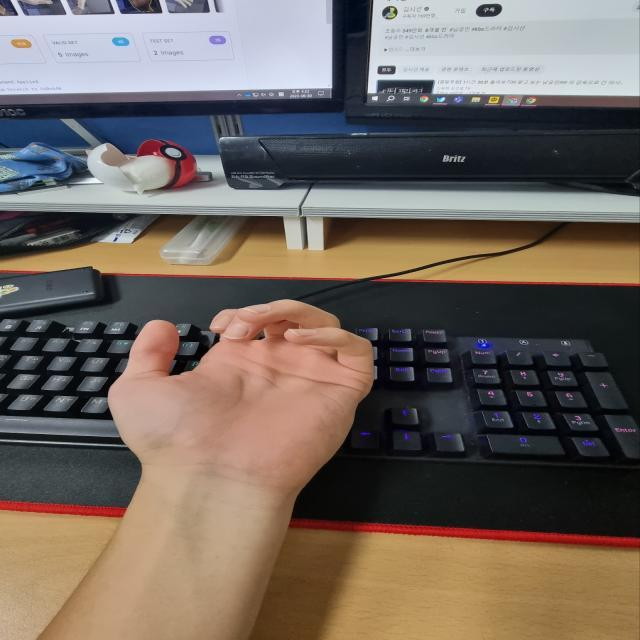keyboard-with-hands: (0, 316, 640, 467)
